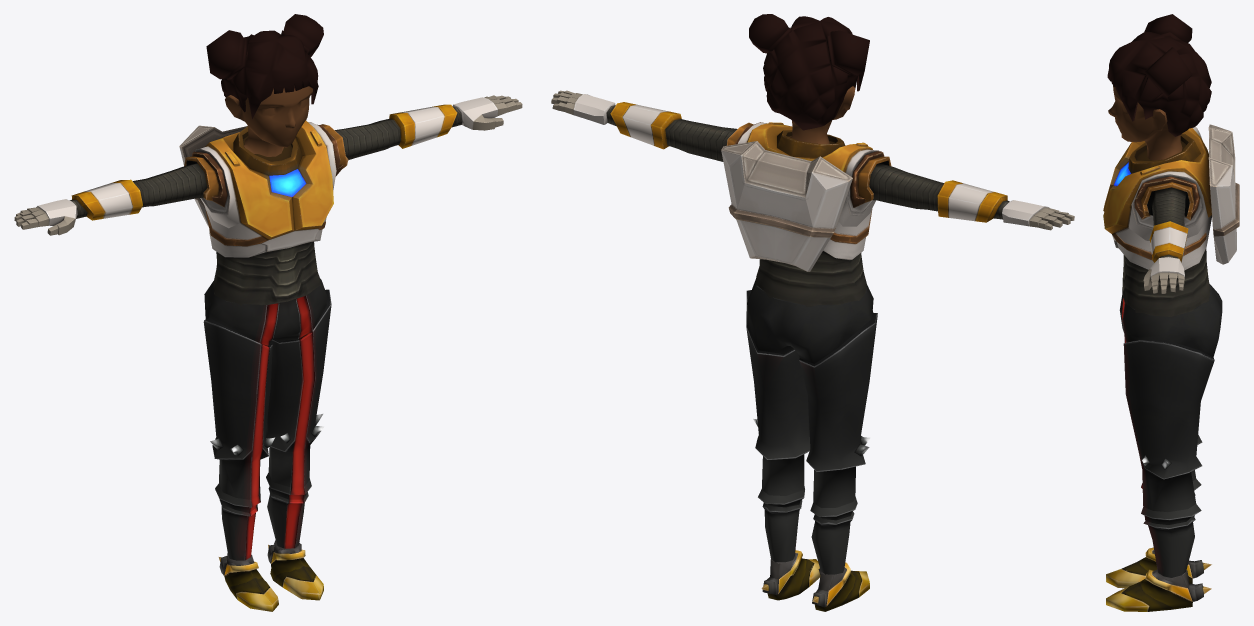
The model's file is TestNPCs_01.glb.
The picture shows the model from 3 angles, left to right: view 1: azimuth 30°, elevation 25°; view 2: azimuth 150°, elevation 25°; view 3: azimuth 270°, elevation 25°; orthographic projection. The views are drawn at different scales.
Visible parts, largest first — view 1: F_Canopus_Upperbody, F_LOWERBODY_orion, F_Hair_DoubleBun, F_Horus_Feet, F_Head_BaseMesh; view 2: F_Canopus_Upperbody, F_LOWERBODY_orion, F_Hair_DoubleBun, F_Horus_Feet, F_Head_BaseMesh; view 3: F_Canopus_Upperbody, F_LOWERBODY_orion, F_Hair_DoubleBun, F_Horus_Feet, F_Head_BaseMesh.
Boxes of the visible parts, left/top/right/bottom form: F_Canopus_Upperbody: left=14, top=95, right=522, bottom=305; F_LOWERBODY_orion: left=203, top=278, right=331, bottom=560; F_Hair_DoubleBun: left=206, top=14, right=323, bottom=121; F_Horus_Feet: left=218, top=540, right=323, bottom=611; F_Head_BaseMesh: left=225, top=86, right=312, bottom=156; F_Canopus_Upperbody: left=551, top=90, right=1074, bottom=306; F_LOWERBODY_orion: left=746, top=278, right=877, bottom=574; F_Hair_DoubleBun: left=749, top=14, right=869, bottom=130; F_Horus_Feet: left=761, top=550, right=869, bottom=611; F_Head_BaseMesh: left=788, top=86, right=855, bottom=143; F_Canopus_Upperbody: left=1103, top=124, right=1239, bottom=316; F_LOWERBODY_orion: left=1119, top=284, right=1222, bottom=577; F_Hair_DoubleBun: left=1107, top=14, right=1211, bottom=136; F_Horus_Feet: left=1106, top=547, right=1211, bottom=611; F_Head_BaseMesh: left=1108, top=85, right=1182, bottom=160.
Bounding box in the file's own units: 1.89 × 2.02 × 0.4447.
Materials: 5 (3 with a texture image).
